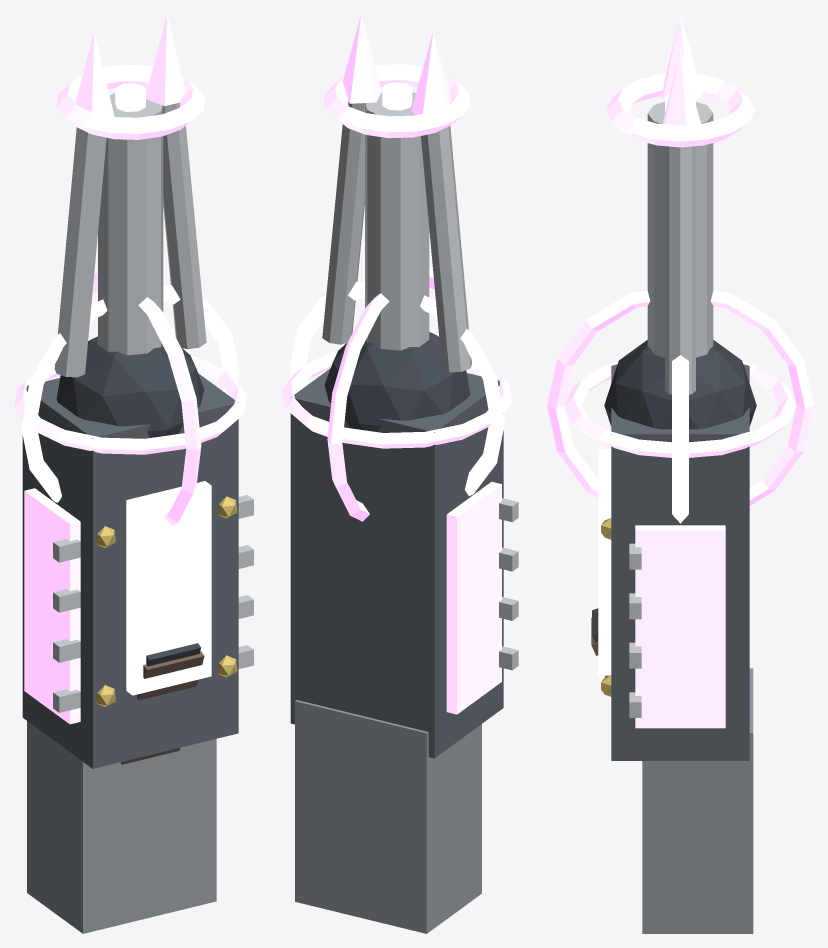
The model's file is singularity_lance.glb.
3 views of the same model, side by side, from view 1: azimuth 30°, elevation 25°; view 2: azimuth 150°, elevation 25°; view 3: azimuth 270°, elevation 25° (orthographic).
Visible parts, largest first — view 1: LanceReceiver, CounterweightedStock, ChargeMeter, LanceSpine, SideRail_-1.002, ContainedSingularity, FocusingProng_-1, FocusingProng_1, VioletMuzzleGate, ContainmentOrbit_0, ContainmentOrbit_1, ContainmentOrbit_2 (+9 smaller); view 2: LanceReceiver, CounterweightedStock, LanceSpine, SideRail_-1.002, ContainedSingularity, FocusingProng_-1, FocusingProng_1, VioletMuzzleGate, ContainmentOrbit_0, ContainmentOrbit_1, ContainmentOrbit_2, ProngTip_1 (+2 smaller); view 3: LanceReceiver, CounterweightedStock, SideRail_1.002, ContainmentOrbit_2, ContainedSingularity, LanceSpine, FocusingProng_1, VioletMuzzleGate, ContainmentOrbit_0, ChargeMeter, ContainmentOrbit_1, ProngTip_1 (+1 smaller).
Boxes of the visible parts, x1,y1,x2,y2 form: LanceReceiver: [22, 373, 238, 768]; CounterweightedStock: [27, 721, 216, 933]; ChargeMeter: [126, 481, 211, 695]; LanceSpine: [98, 93, 163, 355]; SideRail_-1.002: [24, 488, 80, 724]; ContainedSingularity: [56, 336, 204, 437]; FocusingProng_-1: [54, 127, 106, 377]; FocusingProng_1: [163, 102, 206, 349]; VioletMuzzleGate: [56, 64, 205, 139]; ContainmentOrbit_0: [14, 355, 246, 454]; ContainmentOrbit_1: [21, 285, 239, 502]; ContainmentOrbit_2: [92, 272, 201, 525]; LanceReceiver: [290, 368, 503, 758]; CounterweightedStock: [295, 700, 481, 933]; LanceSpine: [365, 92, 429, 350]; SideRail_-1.002: [446, 481, 501, 714]; ContainedSingularity: [324, 332, 470, 432]; FocusingProng_-1: [421, 126, 471, 372]; FocusingProng_1: [322, 102, 364, 344]; VioletMuzzleGate: [323, 64, 470, 138]; ContainmentOrbit_0: [282, 351, 511, 448]; ContainmentOrbit_1: [289, 281, 504, 495]; ContainmentOrbit_2: [327, 269, 434, 521]; ProngTip_1: [342, 14, 381, 103]; LanceReceiver: [611, 364, 749, 760]; CounterweightedStock: [642, 668, 753, 933]; SideRail_1.002: [635, 525, 725, 728]; ContainmentOrbit_2: [547, 290, 813, 505]; ContainedSingularity: [604, 340, 756, 429]; LanceSpine: [647, 101, 713, 357]; FocusingProng_1: [665, 146, 695, 394]; VioletMuzzleGate: [606, 74, 754, 147]; ContainmentOrbit_0: [564, 361, 796, 457]; ChargeMeter: [598, 449, 611, 675]; ContainmentOrbit_1: [672, 355, 688, 523]; ProngTip_1: [662, 49, 700, 125].
Size of the model in its own units: 0.72 by 2.77 by 0.77.
